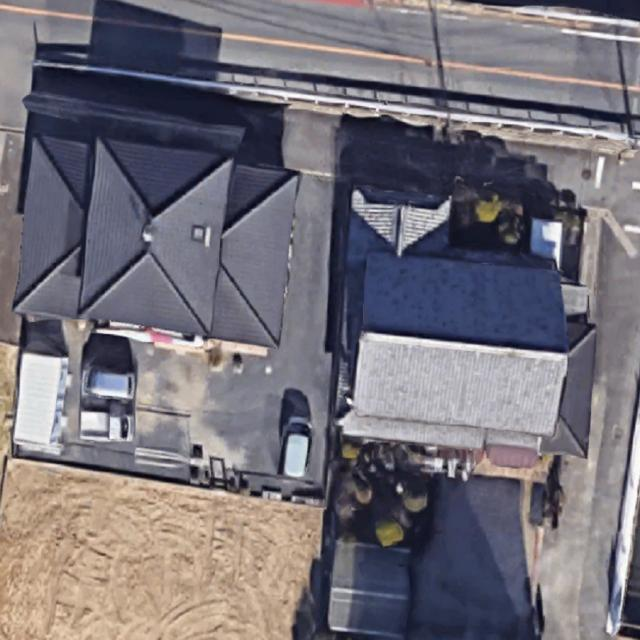Batiment: (15, 134, 299, 346), (344, 252, 595, 455)
